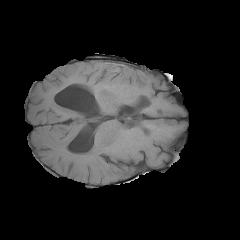glioma: (47, 64, 153, 104)
